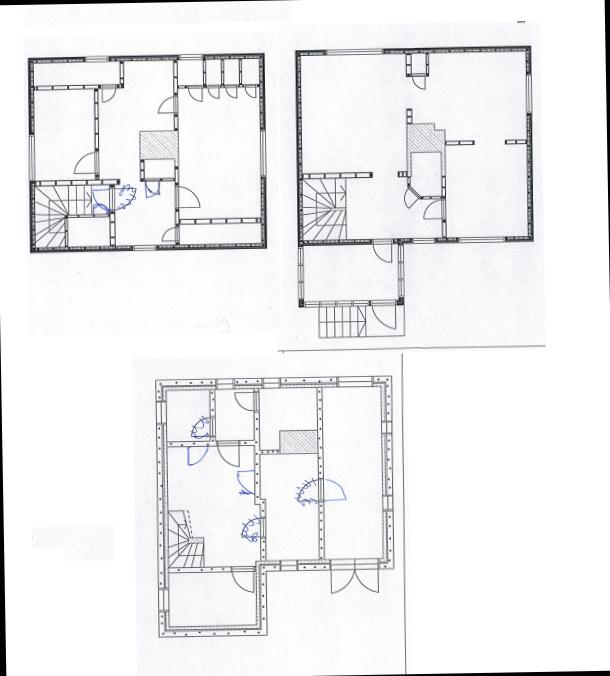door: (324, 558, 356, 598), (226, 562, 260, 598), (367, 297, 397, 336), (354, 555, 382, 594), (236, 513, 270, 543), (291, 479, 324, 508), (212, 439, 243, 469), (173, 183, 203, 211), (187, 415, 217, 442), (318, 477, 346, 505), (72, 150, 102, 176), (184, 438, 210, 468), (420, 196, 449, 222), (233, 388, 260, 414), (91, 187, 116, 212), (236, 470, 262, 494), (157, 94, 180, 118), (402, 185, 424, 210), (140, 176, 162, 200), (160, 225, 183, 247), (98, 82, 119, 105), (186, 81, 205, 103), (411, 72, 426, 93), (208, 82, 222, 102), (243, 82, 258, 100), (224, 83, 238, 101)
window: (451, 230, 513, 250), (320, 44, 392, 60), (254, 121, 270, 183), (332, 372, 376, 392), (522, 68, 538, 122), (26, 130, 39, 183), (153, 582, 170, 616), (152, 398, 170, 430), (274, 556, 304, 574), (257, 375, 288, 392), (126, 241, 162, 254), (380, 490, 398, 516), (409, 234, 441, 248), (174, 50, 209, 62), (77, 54, 114, 65), (380, 415, 395, 439), (212, 378, 239, 390), (332, 298, 356, 310), (350, 297, 372, 310), (395, 279, 406, 303), (396, 240, 407, 264), (395, 260, 406, 280), (296, 281, 306, 303), (300, 299, 320, 310), (296, 263, 306, 284), (318, 298, 338, 308), (296, 243, 304, 267)
